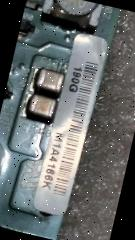electronic: (0, 0, 119, 240)
